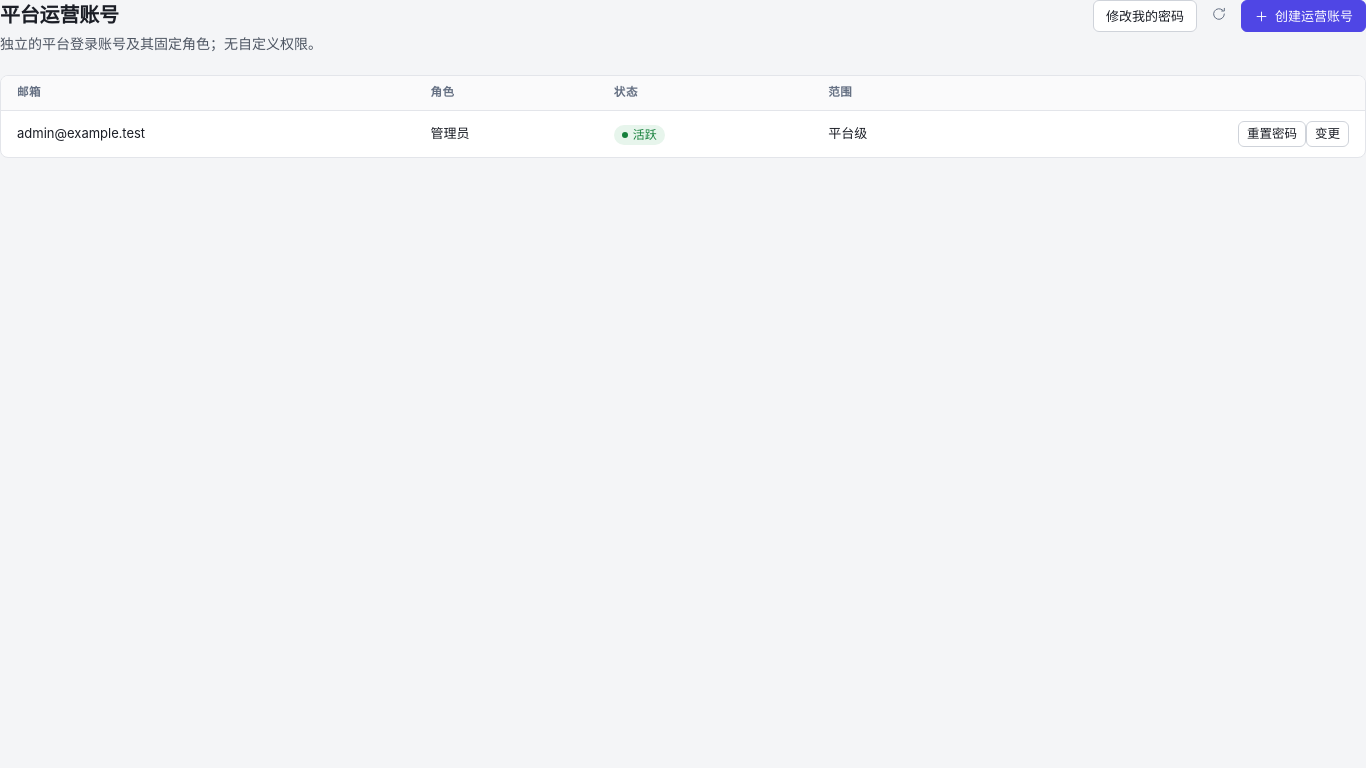
Test: owner resets only the selected account with actor proof, without changing role/MFA
Click the button "重置密码" at (1272, 134), box [1238,120,1306,146]
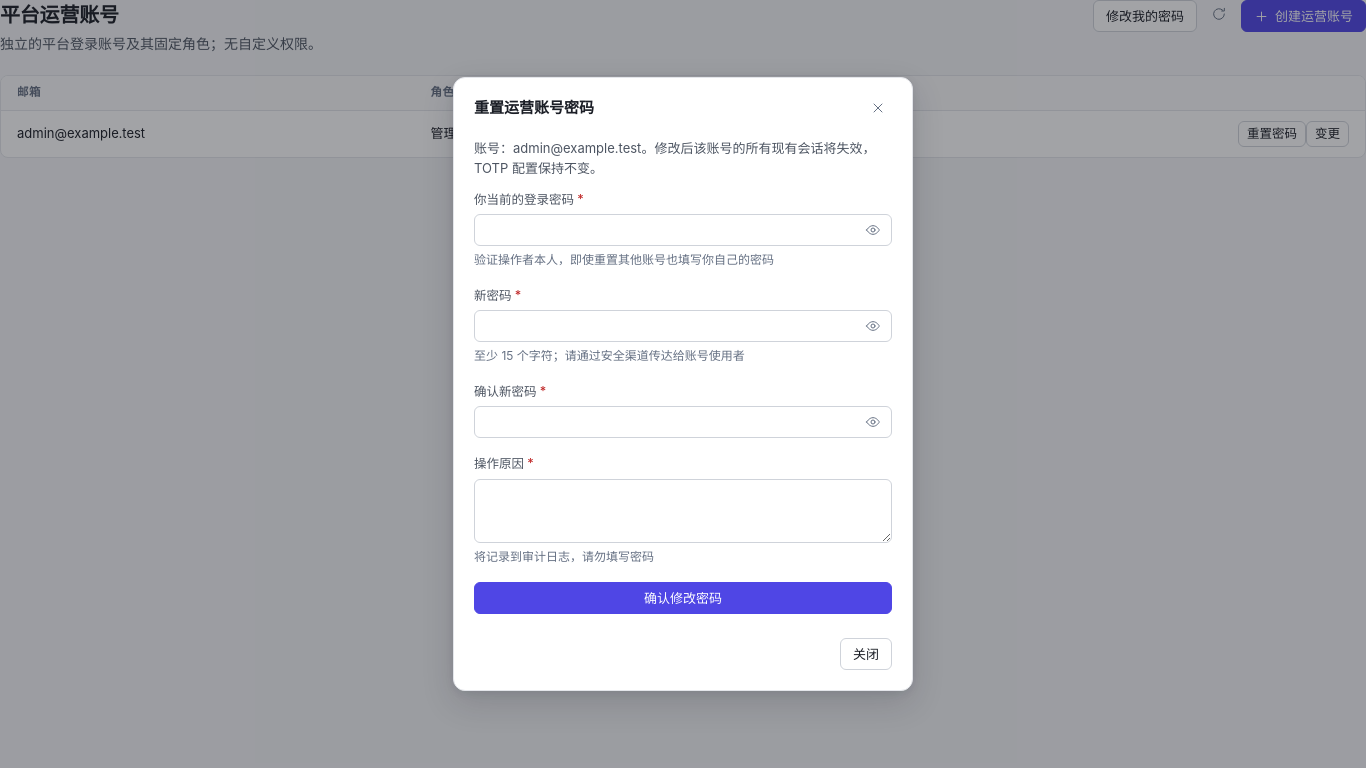
Type "current actor password" into the password field labelled "你当前的登录密码" at (683, 230), box [474,214,892,246]
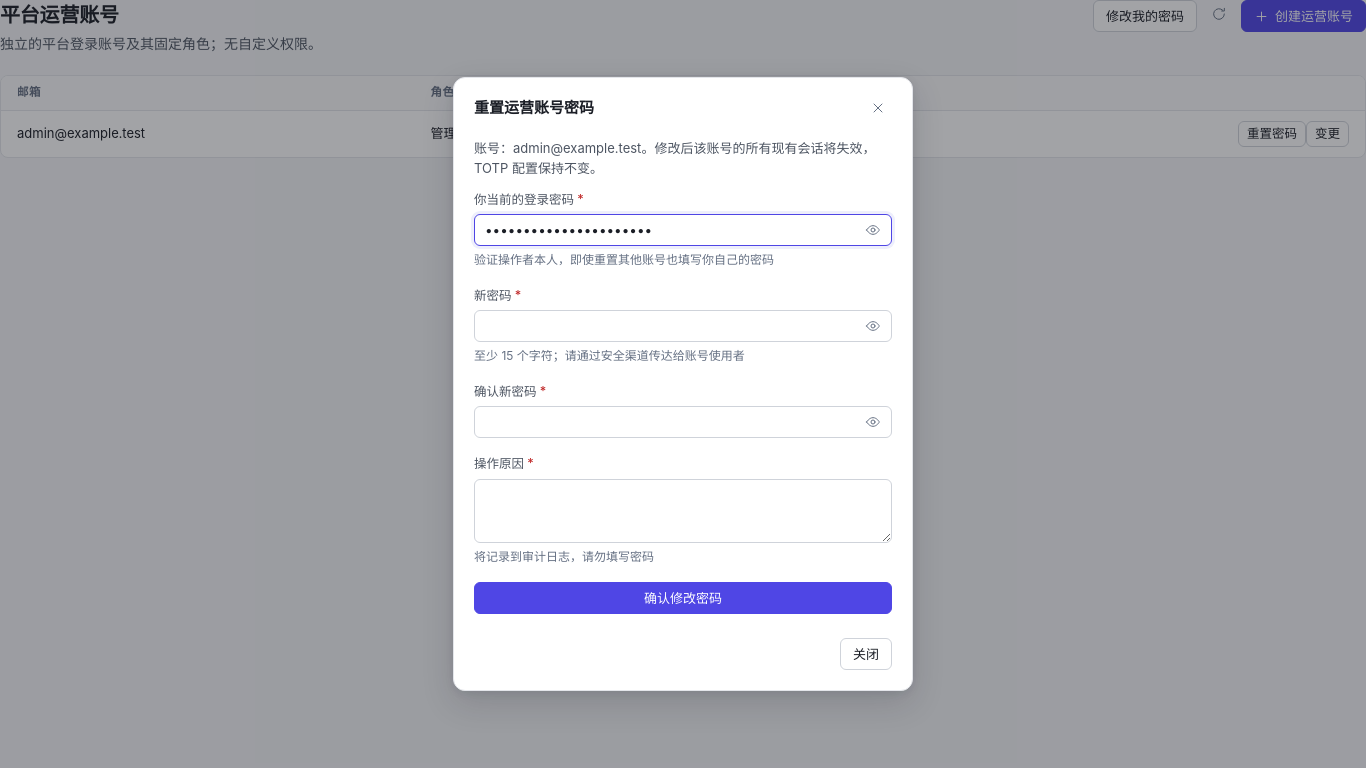
Type "a new private password phrase" into the password field labelled "新密码" at (683, 326), box [474,310,892,342]
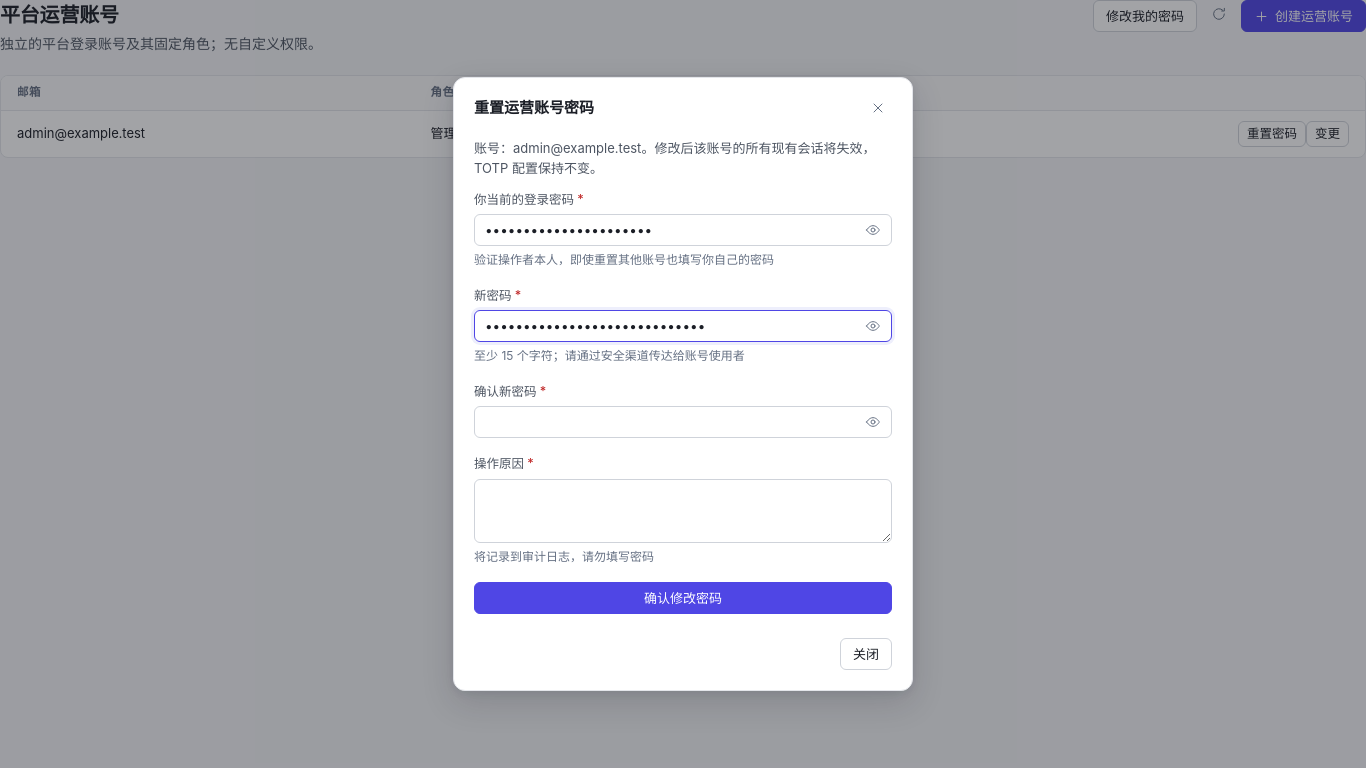
Type "a new private password phrase" into the password field labelled "确认新密码" at (683, 422), box [474,406,892,438]
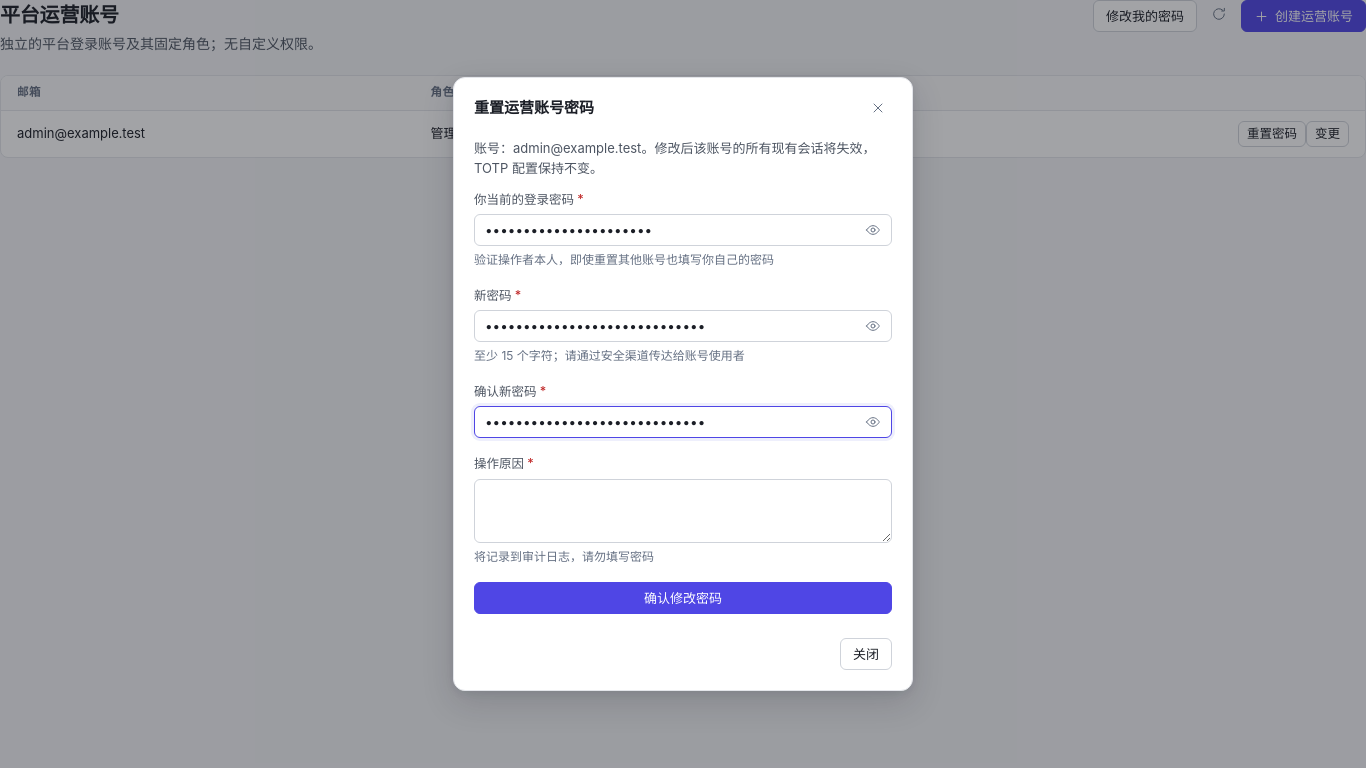
Type "approved rotation" into the text box labelled "操作原因" at (683, 511), box [474,479,892,543]
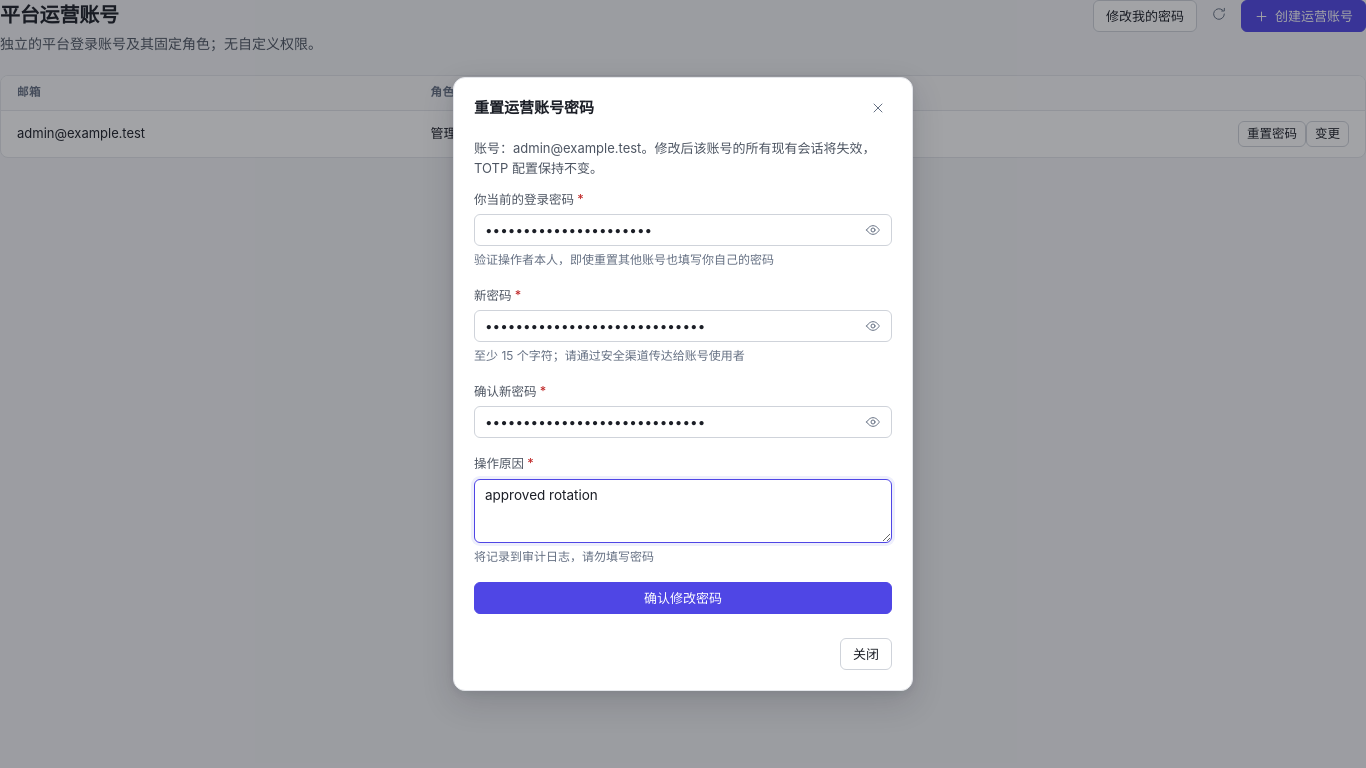
Click the button "确认修改密码" at (683, 598), box [474,582,892,614]
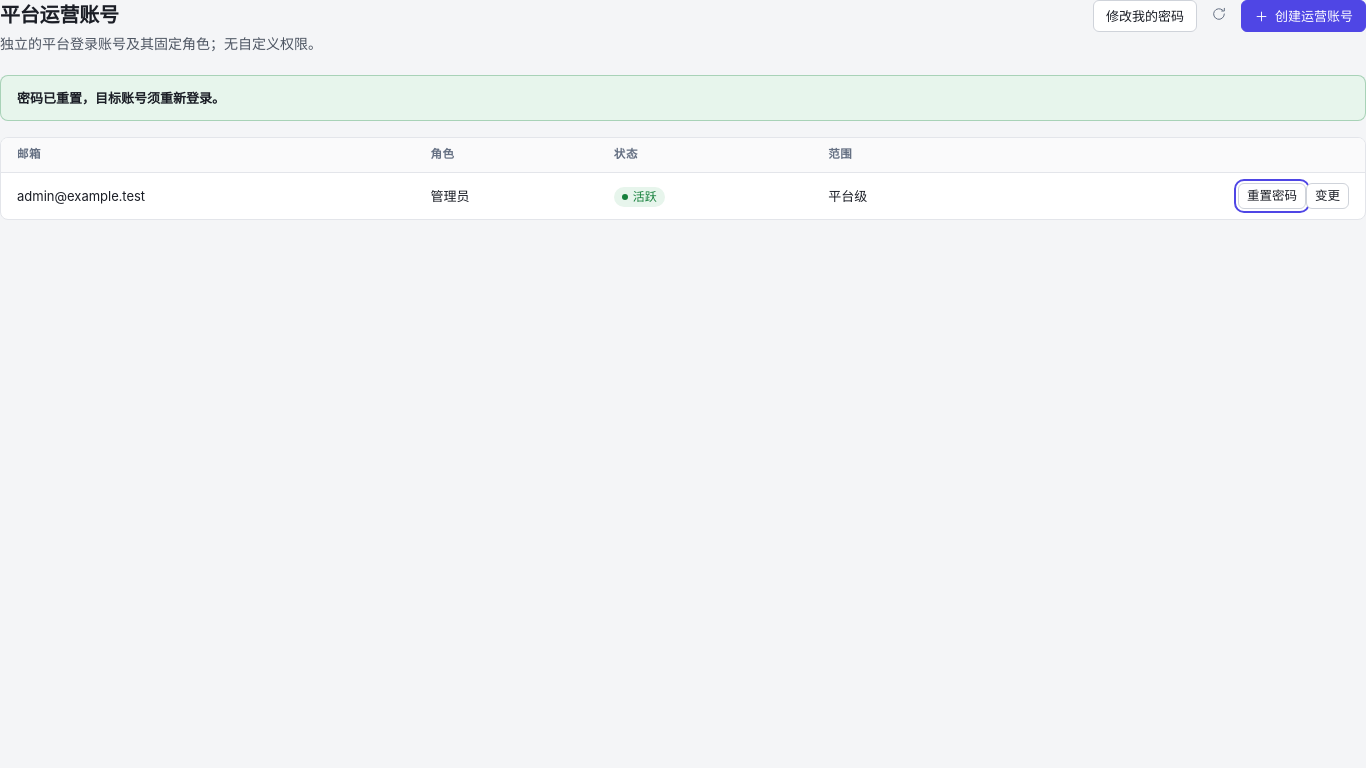
Result: the text "密码已重置，目标账号须重新登录。" is shown at [17,88,225,108]
